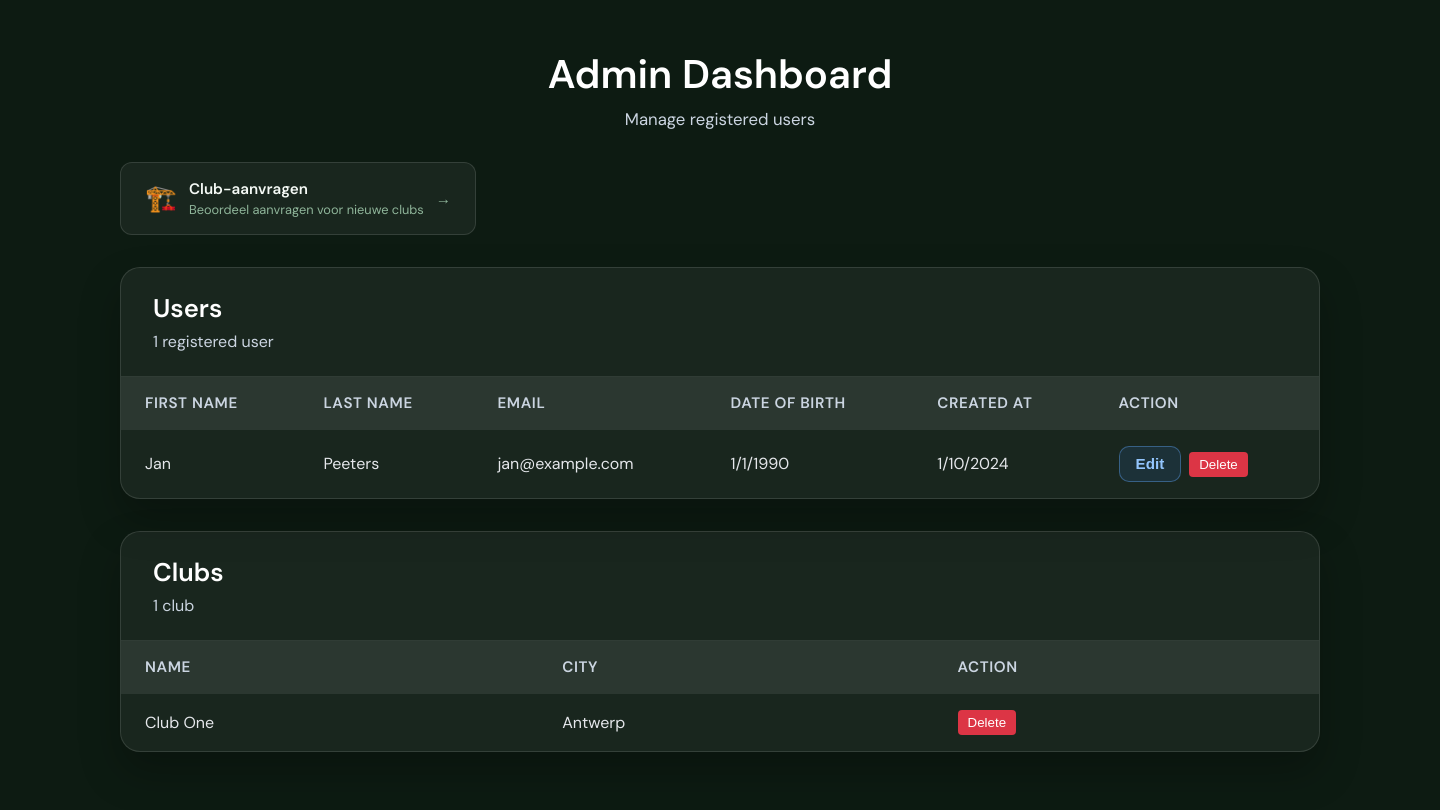
Test: Admin › opens edit modal when clicking Edit
expect the text "Jan" is shown: met, box [121,429,299,498]
Click the button "Edit" at {"x": 1150, "y": 464}, box [1118,446,1181,482]
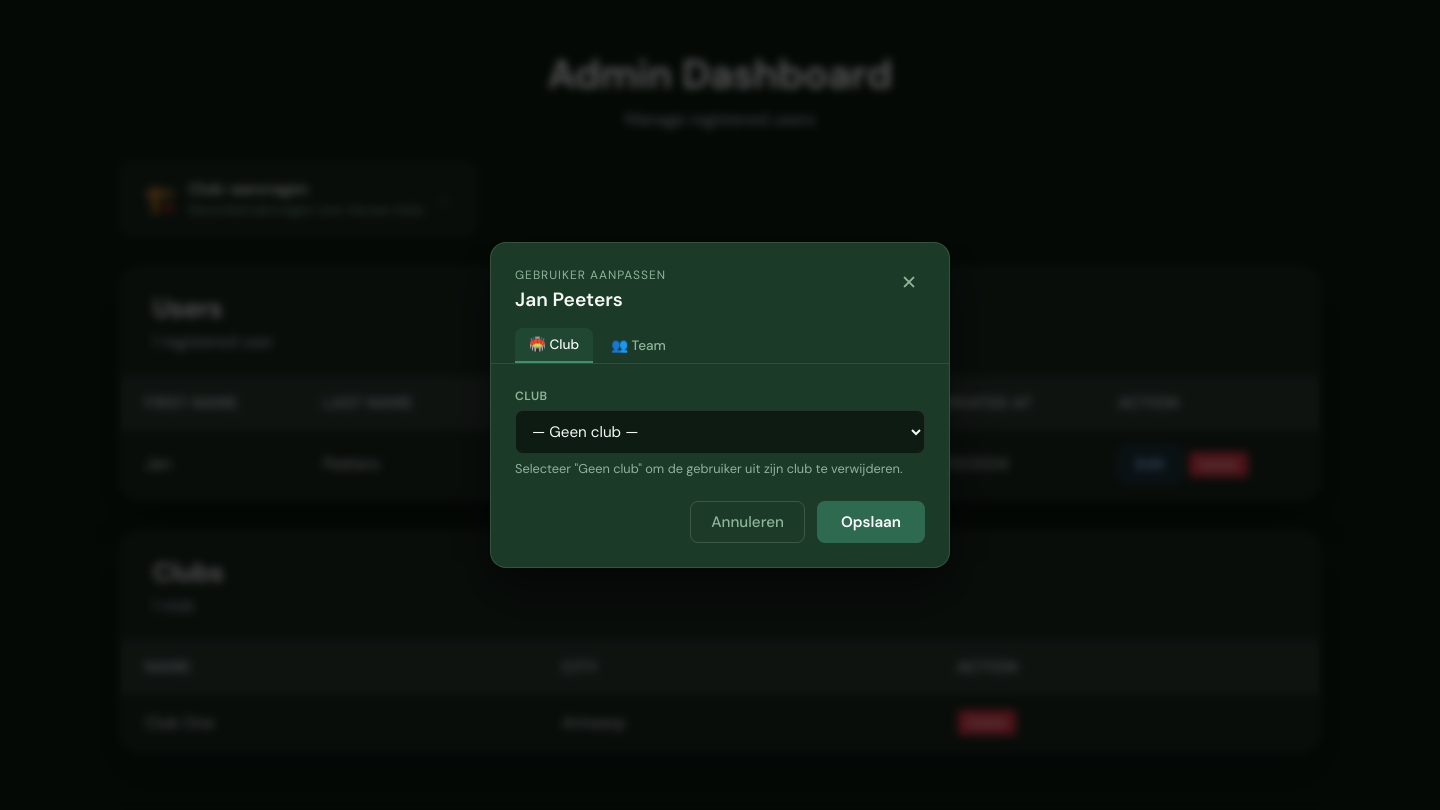
expect the text "Gebruiker aanpassen" is shown: met, box [515,267,666,283]
